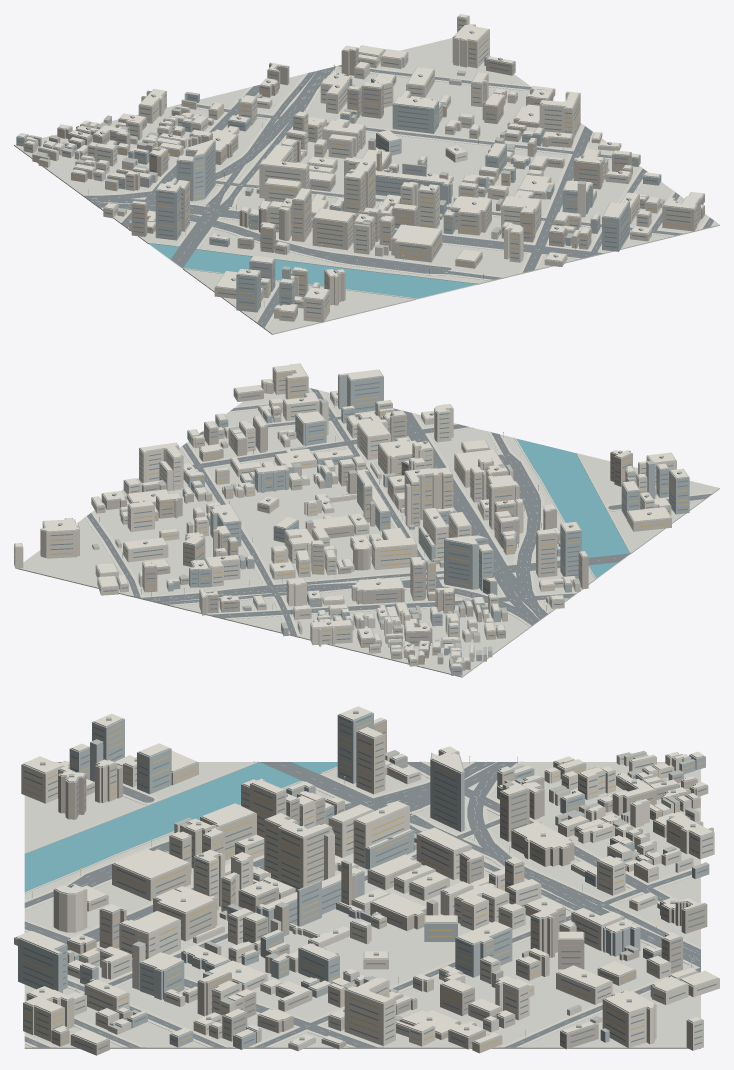
3 views of the same model, one above another, from view 1: azimuth 30°, elevation 25°; view 2: azimuth 150°, elevation 25°; view 3: azimuth 270°, elevation 25° (orthographic). The views are drawn at different scales.
Parts seen in each view (by area): view 1: city; view 2: city; view 3: city.
Boxes of the visible parts, left/top/right/bottom form: city: left=14, top=14, right=719, bottom=334; city: left=14, top=363, right=719, bottom=677; city: left=14, top=706, right=719, bottom=1055.
Size of the model in its own units: 521 by 53.95 by 522.
